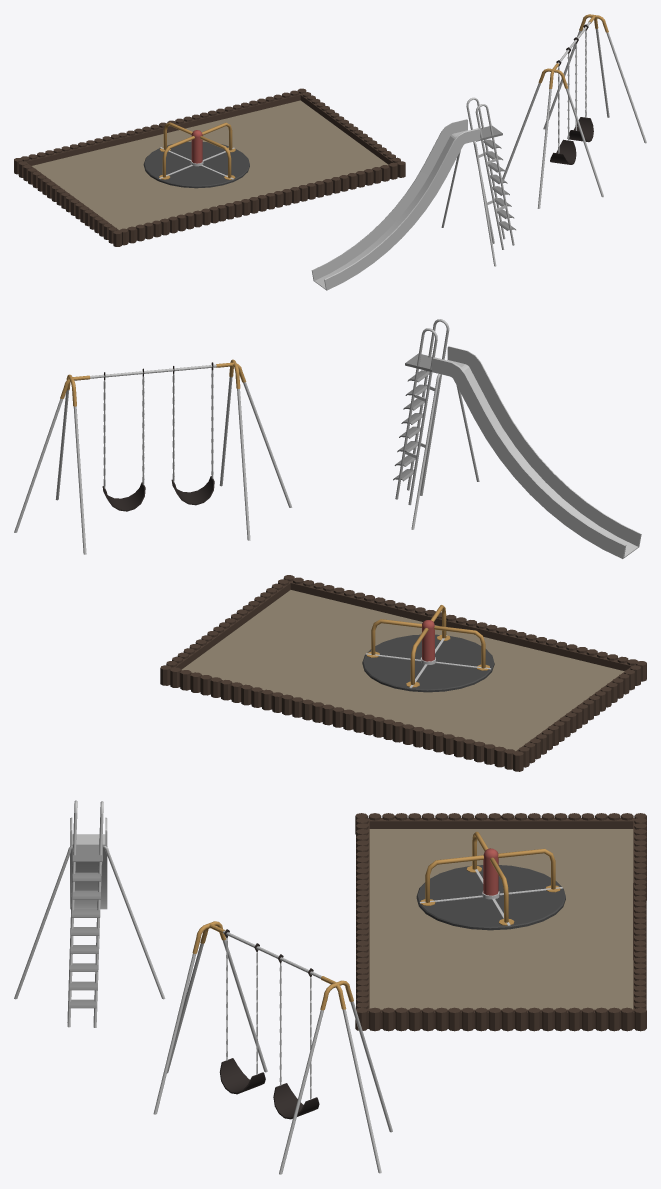
Rendered from playground.fbx.
3 views of the same model, one above another, from view 1: azimuth 30°, elevation 25°; view 2: azimuth 150°, elevation 25°; view 3: azimuth 270°, elevation 25° (orthographic). The views are drawn at different scales.
Visible parts, largest first — view 1: pCube977, polySurface29, slide, pDisc3, pTorus10 (×2), pTorus11 (×2), pTorus2, pTorus3, pTorus4, seat, seat1, pCylinder3; view 2: pCube977, polySurface29, slide, pDisc3, pTorus10 (×2), pTorus11 (×2), pTorus4, pTorus2, pTorus3; view 3: pCube977, polySurface29, pDisc3, pTorus10 (×2), pTorus11 (×2), slide, pTorus3, seat, seat1, pCylinder3, pTorus2, pTorus4.
Boxes of the visible parts, box(x1,y1,x2,y2) form: pCube977: box(25, 93, 396, 242); polySurface29: box(14, 88, 405, 246); slide: box(311, 119, 480, 290); pDisc3: box(143, 141, 249, 188); pTorus10 (×2): box(502, 14, 646, 197); pTorus11 (×2): box(537, 15, 609, 208); pTorus2: box(475, 104, 514, 249); pTorus3: box(441, 141, 496, 266); pTorus4: box(466, 97, 505, 243); seat: box(550, 139, 576, 164); seat1: box(567, 117, 593, 142); pCylinder3: box(190, 130, 203, 166); pCube977: box(171, 581, 632, 765); polySurface29: box(160, 575, 646, 771); slide: box(432, 346, 641, 558); pDisc3: box(362, 634, 494, 692); pTorus10 (×2): box(55, 359, 250, 554); pTorus11 (×2): box(14, 362, 292, 532); pTorus4: box(395, 328, 437, 505); pTorus2: box(407, 319, 449, 495); pTorus3: box(411, 374, 479, 529); pCube977: box(367, 818, 635, 1028); polySurface29: box(355, 813, 646, 1031); pDisc3: box(416, 865, 565, 930); pTorus10 (×2): box(153, 921, 392, 1174); pTorus11 (×2): box(167, 923, 381, 1173); slide: box(70, 817, 107, 909); pTorus3: box(14, 846, 165, 999); seat: box(219, 1058, 265, 1094); seat1: box(273, 1083, 319, 1119); pCylinder3: box(482, 848, 499, 899); pTorus2: box(67, 800, 77, 1027); pTorus4: box(93, 801, 103, 1027).
Bounding box in the file's own units: 15.25 × 4.38 × 11.8.
